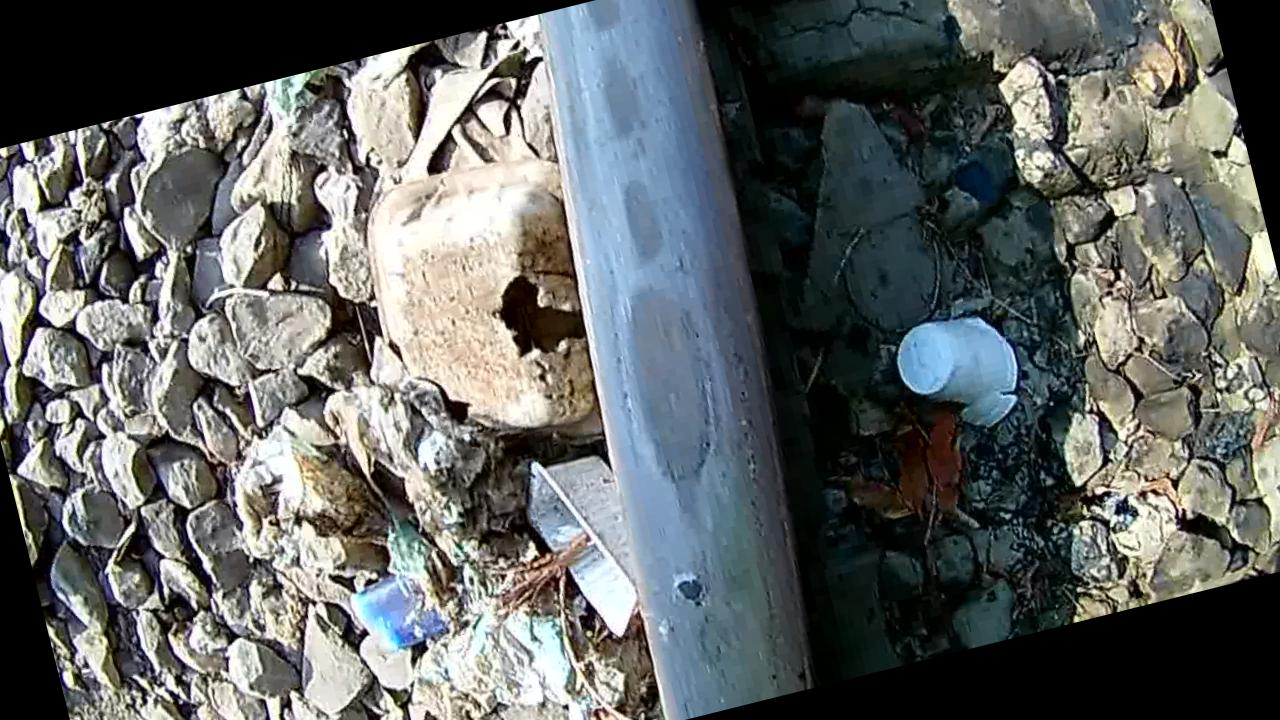bolt_missing: (504, 0, 860, 720)
